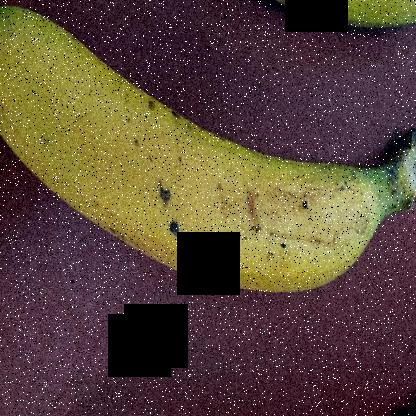freshripe: (220, 0, 415, 34)
ripe: (0, 0, 402, 310)
